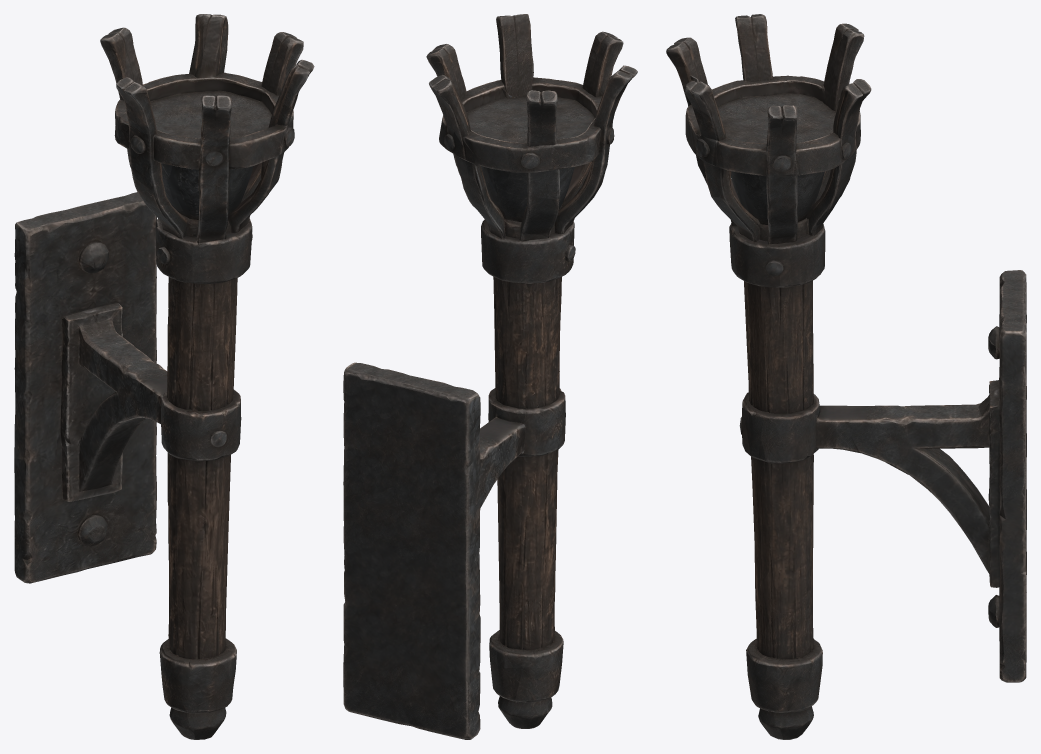
The model's file is wall-torch.glb.
3 views of the same model, side by side, from view 1: azimuth 30°, elevation 25°; view 2: azimuth 150°, elevation 25°; view 3: azimuth 270°, elevation 25° (orthographic). The views are drawn at different scales.
Visible parts, largest first — view 1: output_unwrapped; view 2: output_unwrapped; view 3: output_unwrapped.
Part boxes in pixels (<box>): output_unwrapped: <box>14,14,314,739</box>; output_unwrapped: <box>343,14,637,739</box>; output_unwrapped: <box>666,14,1026,739</box>.
Bounding box in the file's own units: 0.5591 × 1.9 × 0.91.
1 material, 1 textured.
